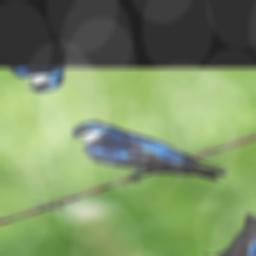Swallow: (61, 95, 234, 210)
